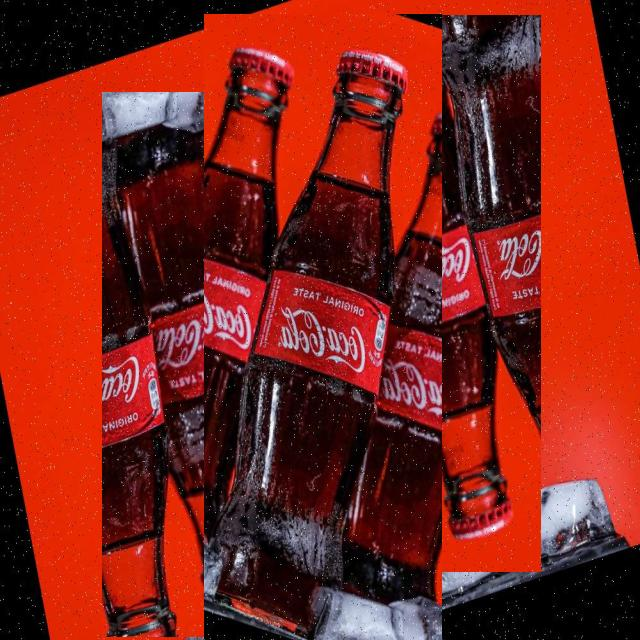coca-cola: (204, 14, 442, 640), (324, 15, 541, 572), (102, 92, 318, 637)
